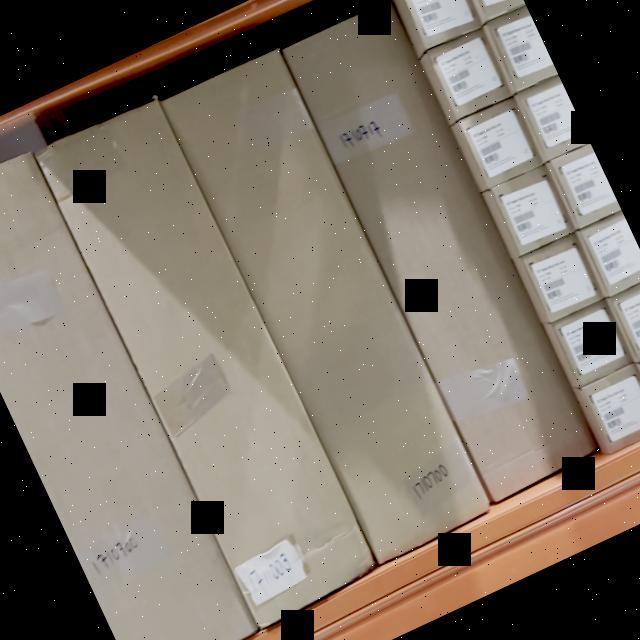box: (41, 108, 379, 624), (164, 54, 494, 559), (286, 7, 603, 500), (460, 104, 542, 187), (525, 236, 605, 320), (493, 170, 574, 250), (554, 303, 632, 381), (434, 36, 509, 114), (583, 368, 640, 449), (400, 0, 481, 44)
